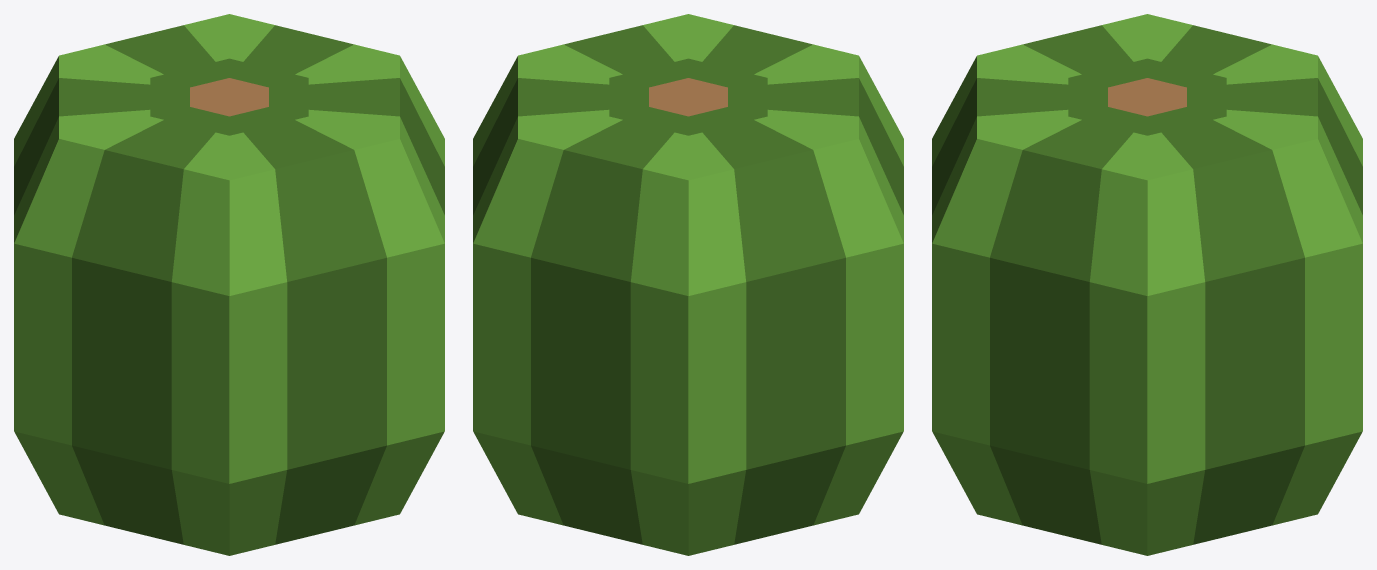
The model's file is crop_melon.glb.
3 renders of one model, left to right at view 1: azimuth 30°, elevation 25°; view 2: azimuth 150°, elevation 25°; view 3: azimuth 270°, elevation 25°, orthographic.
Visible parts, largest first — view 1: crop_melon; view 2: crop_melon; view 3: crop_melon.
Part boxes in pixels (x1,y1,x2,y2): crop_melon: (14,14,444,555); crop_melon: (473,14,903,555); crop_melon: (932,14,1362,555).
Bounding box in the file's own units: 0.4176 × 0.348 × 0.3617.
